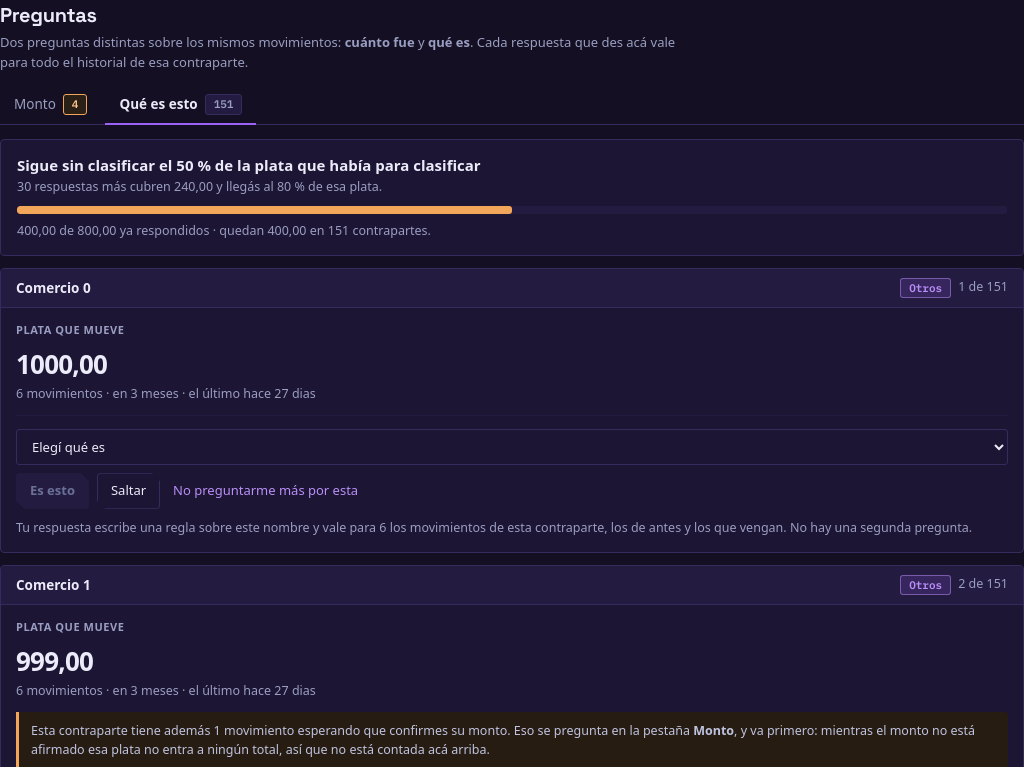
Test case: pestaña 'Qué es esto' — 151 grupos por plata › F13/R19: al responder dice qué cambió, con el número
Select "Salud y medicina" in the dropdown with test id "classify-selector". click: (512, 447)
box: top-left (16, 429), bottom-right (1008, 465)
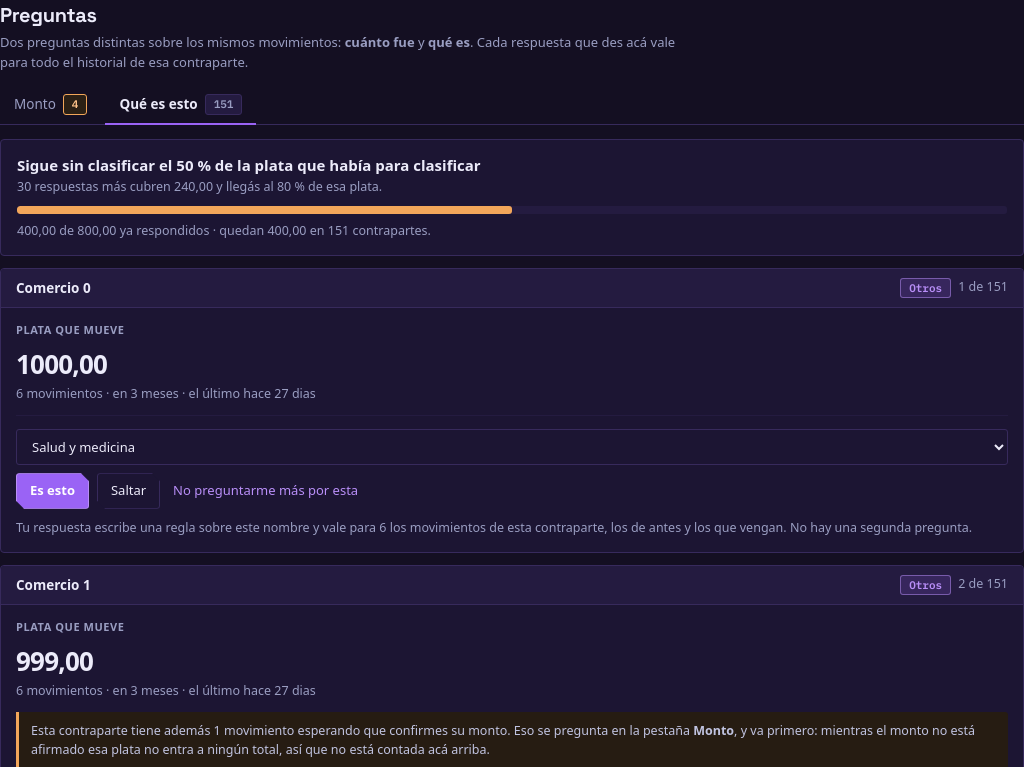
Click the button with test id "classify-responder". click: (52, 491)
box: top-left (16, 473), bottom-right (89, 509)
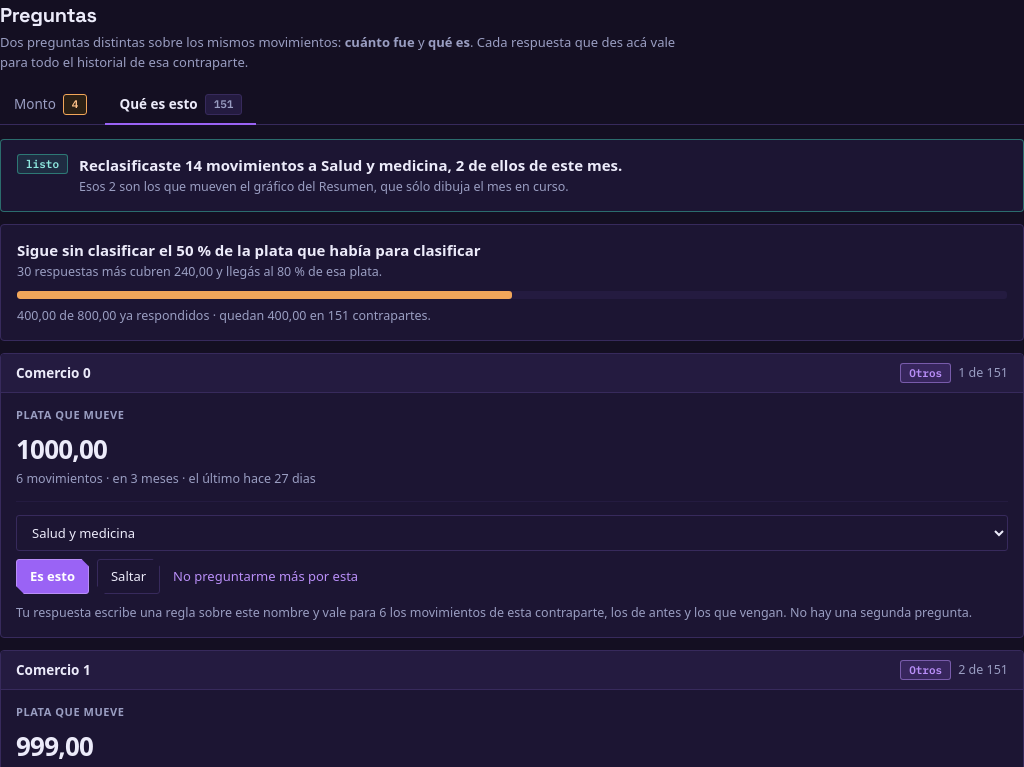
Now the element with test id "efecto" shows "14 movimientos", box top-left (79, 154), bottom-right (622, 174)
Now the element with test id "efecto" shows "2 de ellos de este mes", box top-left (79, 154), bottom-right (622, 174)
